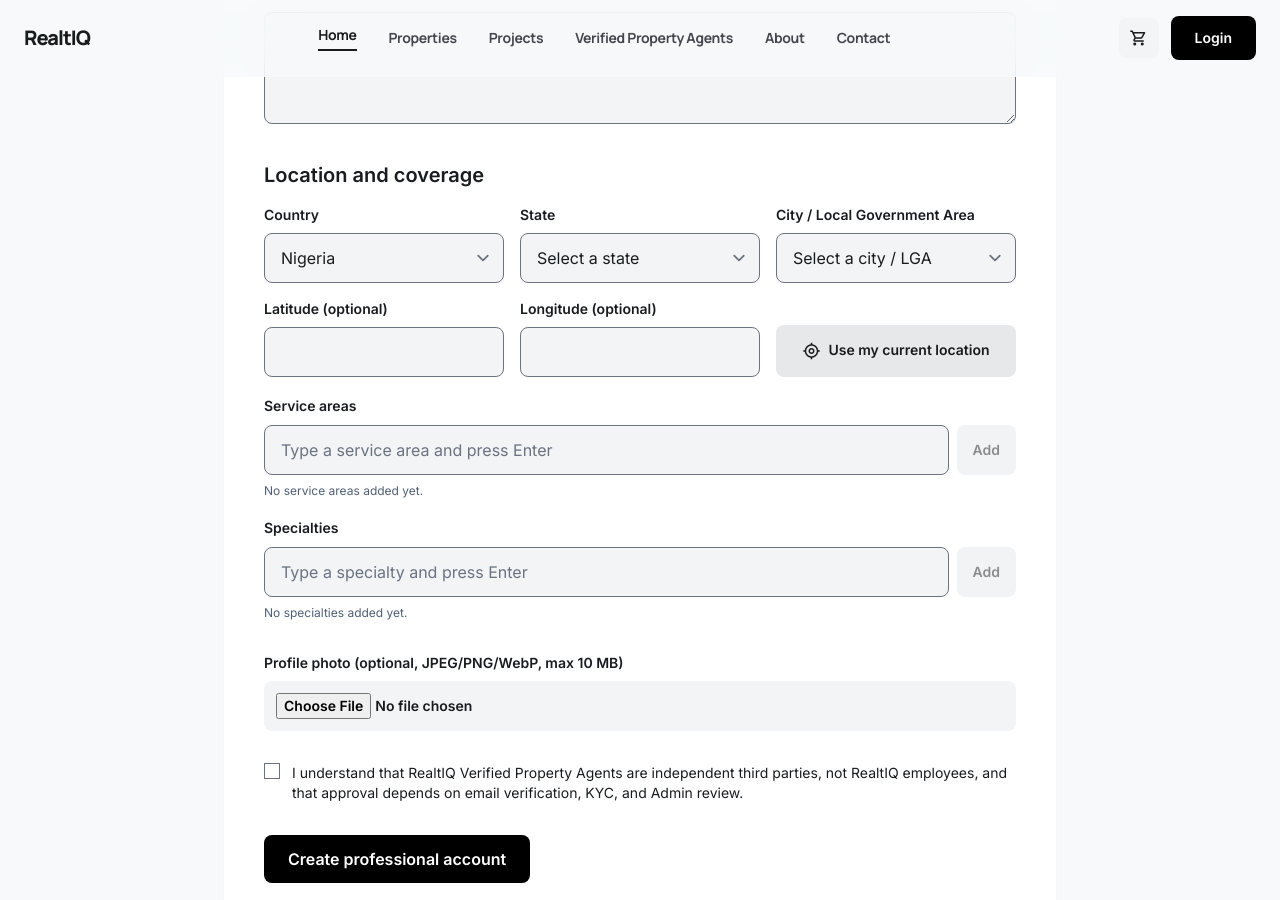
Test: Verified Property Agent registration fields › adds one service-area or specialty value as removable chips
The image size is (1280, 900).
(page scrolled)
Type "Lekki" into the field labelled "Service areas" at point(606, 450), box x1=264 y1=425 x2=948 y2=475
Then press Enter
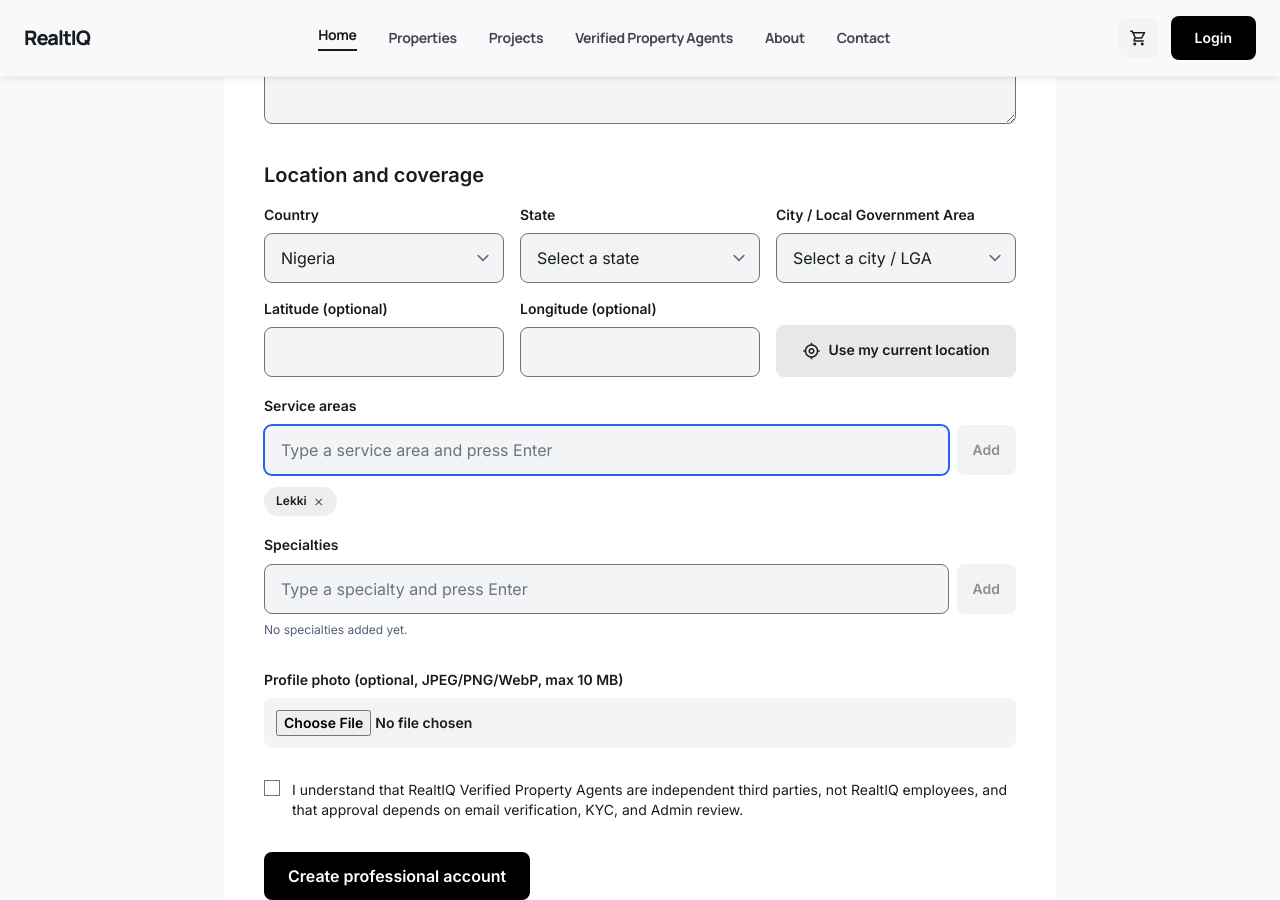
Expected: the text "Lekki" is shown, x1=264 y1=487 x2=337 y2=516
Type "lekki" into the field labelled "Service areas" at point(606, 450), box x1=264 y1=425 x2=948 y2=475
Then press Enter
Expected: the text "Lekki" is shown once, x1=264 y1=487 x2=337 y2=516
Click the button named "Remove Lekki from service areas" at point(319, 501), box x1=313 y1=493 x2=325 y2=510
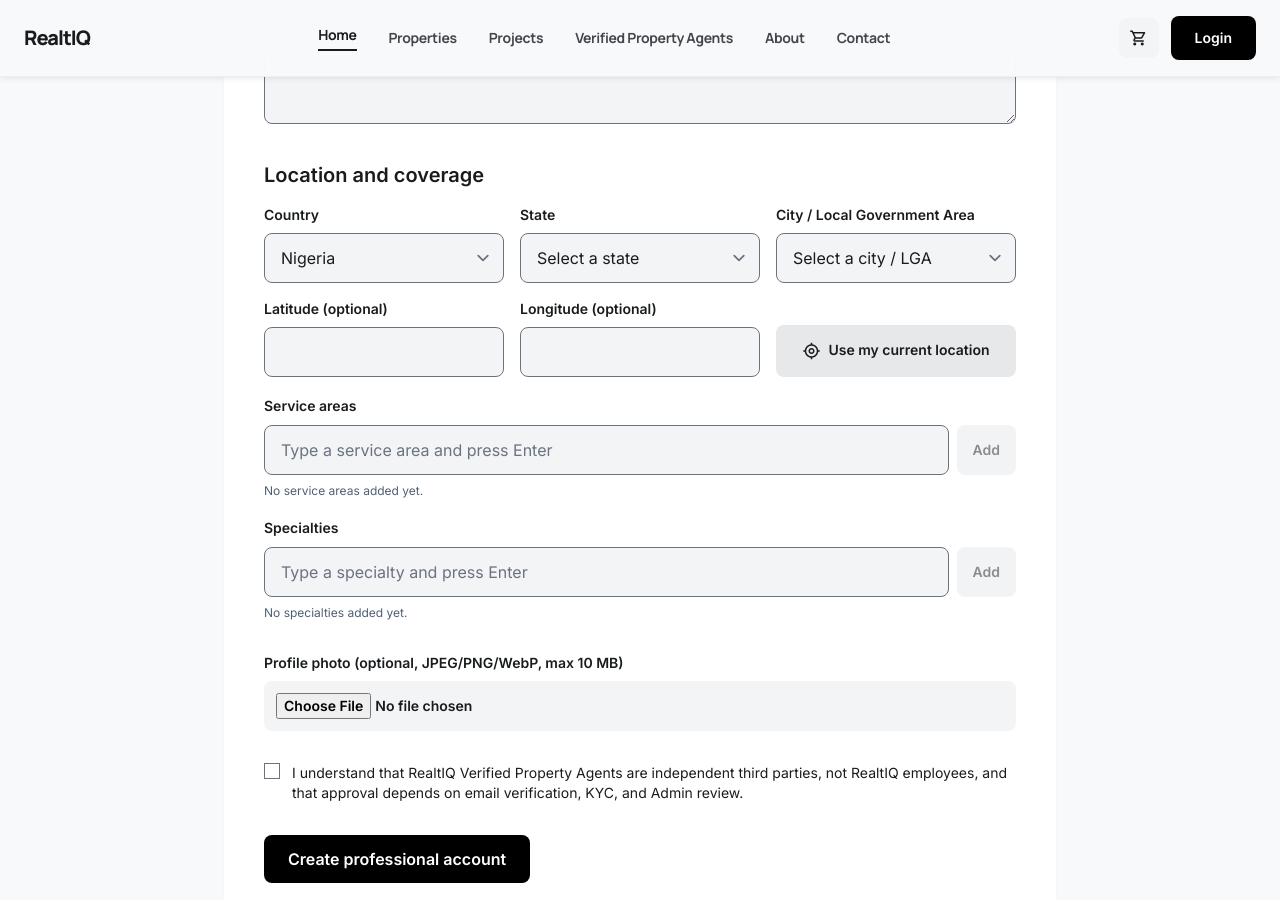
Expected: the text "Lekki" is gone
Type "Building condition" into the field labelled "Specialties" at point(606, 572), box x1=264 y1=547 x2=948 y2=597
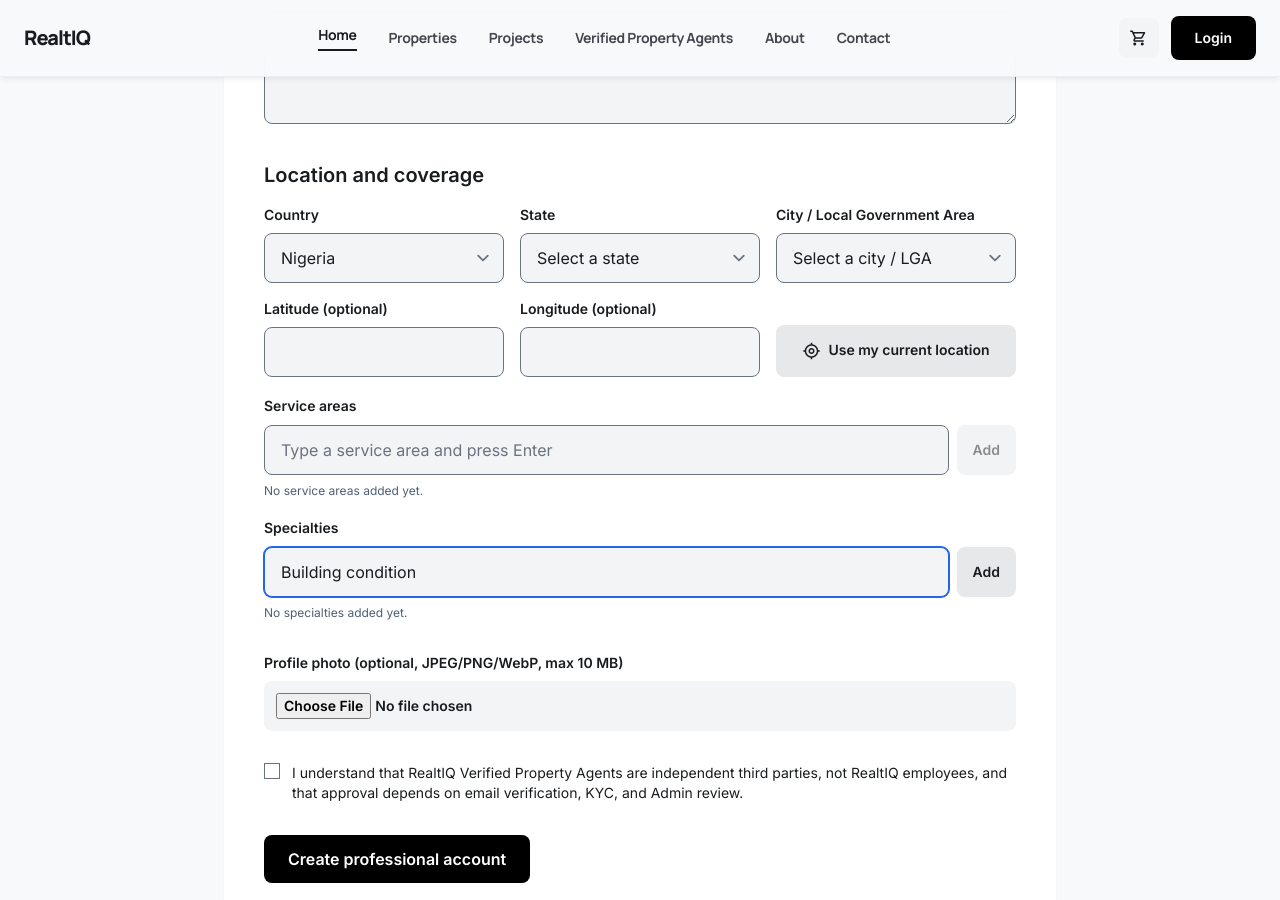
Click the 2nd button "Add" at point(986, 572), box x1=956 y1=547 x2=1016 y2=597
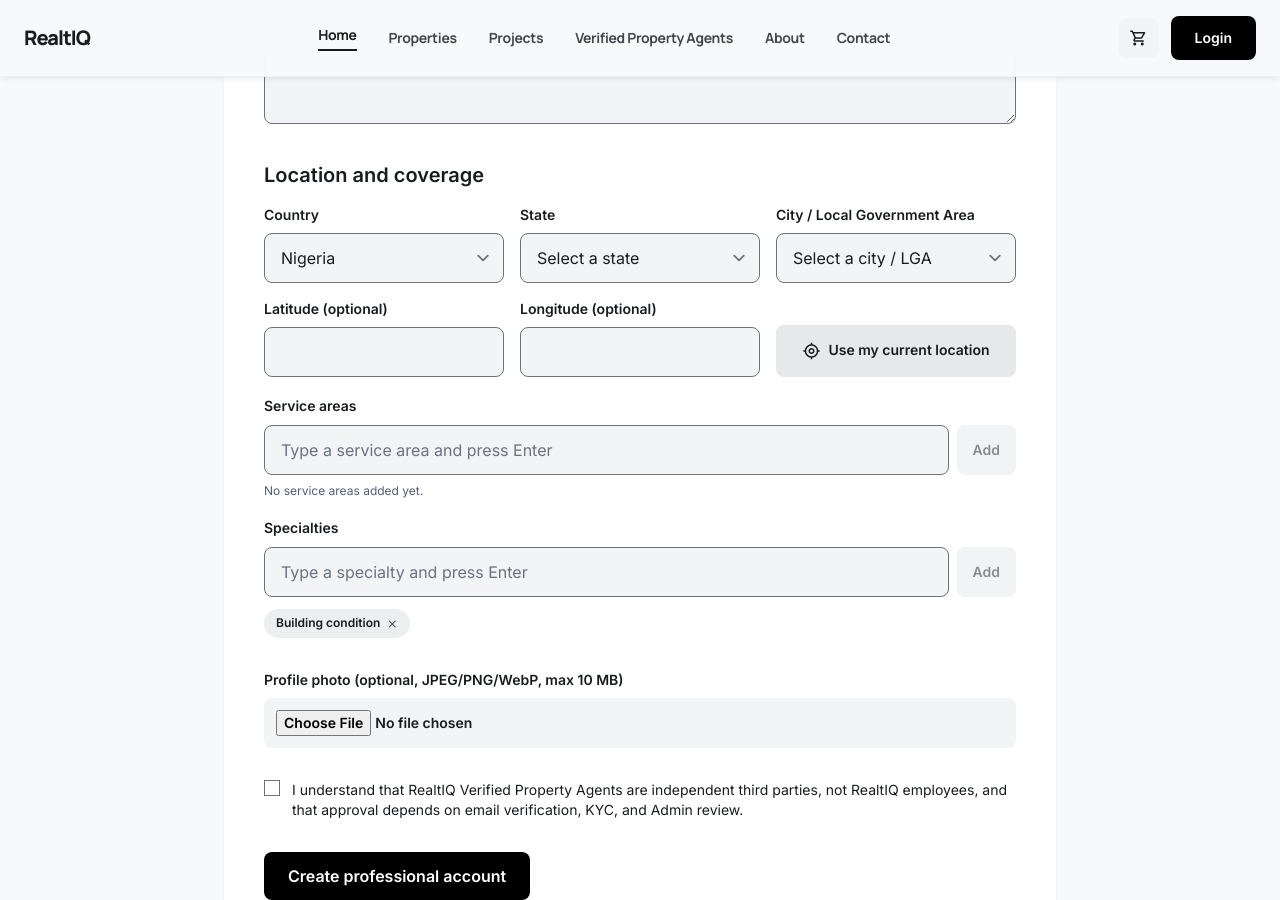
Expected: the text "Building condition" is shown, x1=264 y1=609 x2=410 y2=638
